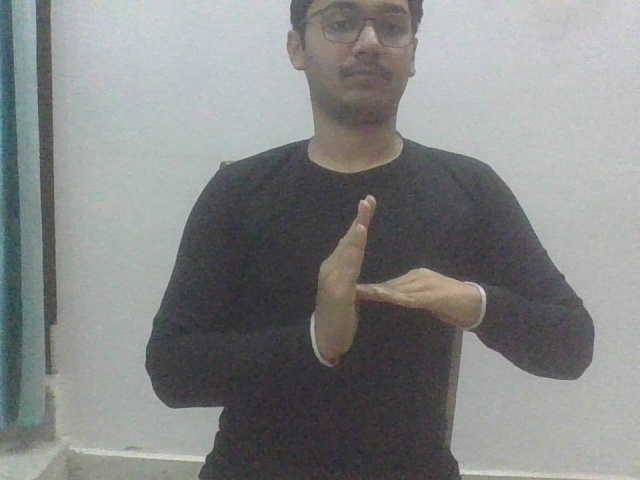Z: (318, 189, 468, 362)
